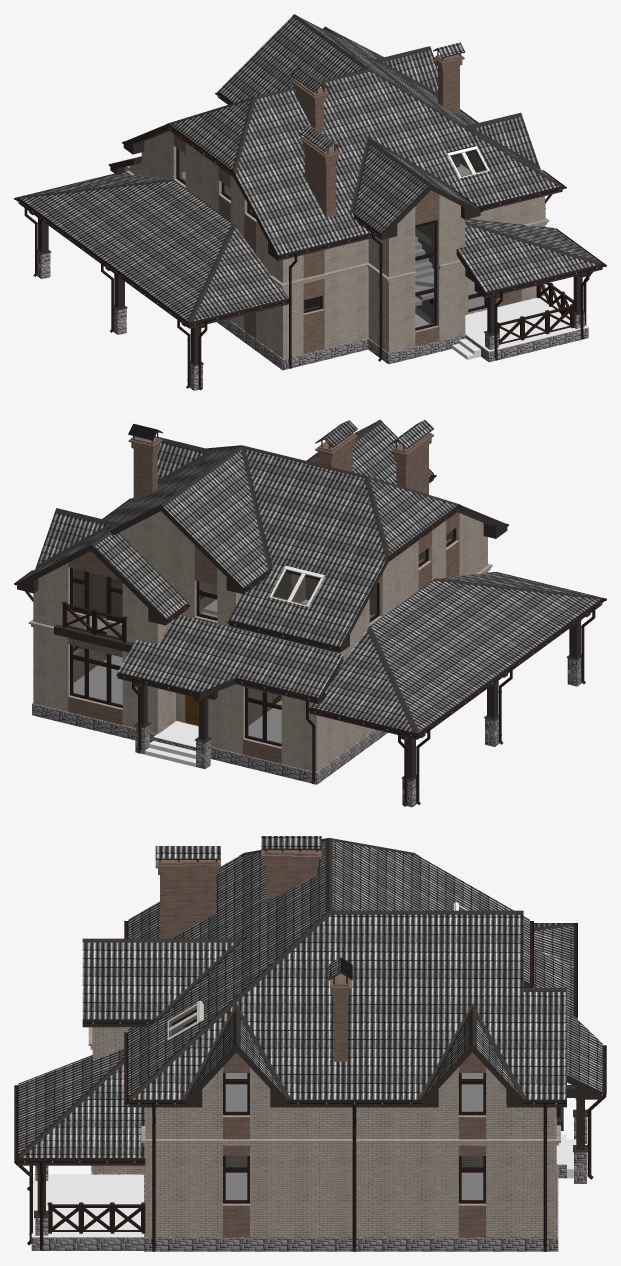
Rendered from brick-house.glb.
The picture shows the model from 3 angles, top to bottom: view 1: azimuth 30°, elevation 25°; view 2: azimuth 150°, elevation 25°; view 3: azimuth 270°, elevation 25°; orthographic projection. The views are drawn at different scales.
Bounding box in the file's own units: 16.69 × 9.81 × 17.44.
Materials: 10 (6 with a texture image).
